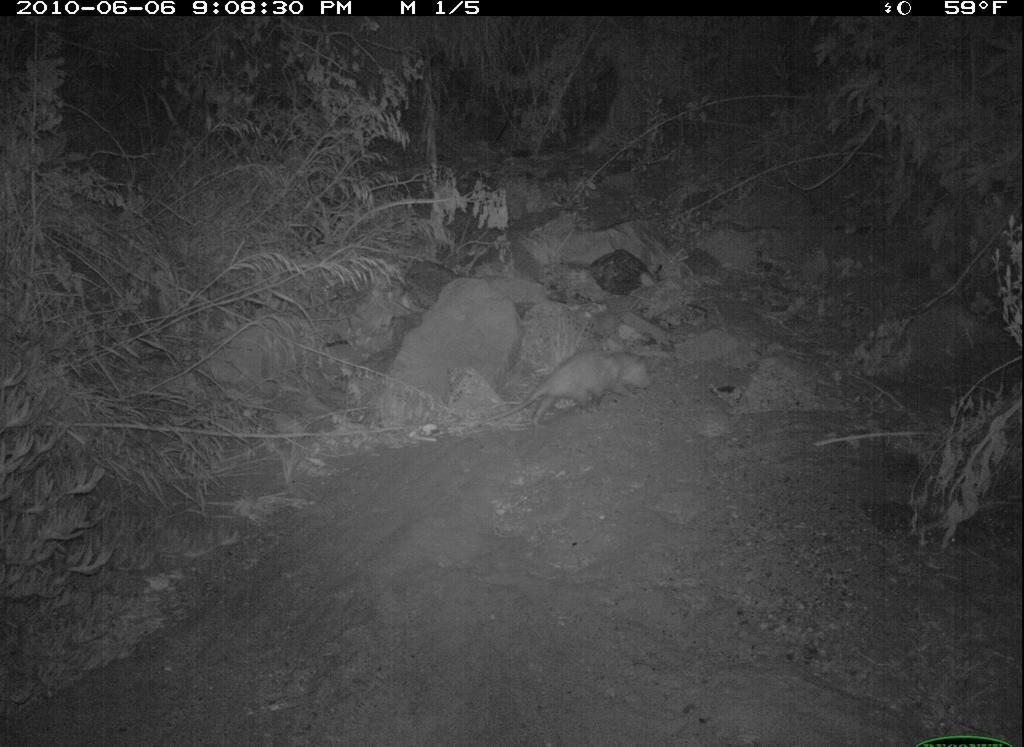opossum: (466, 345, 660, 434)
